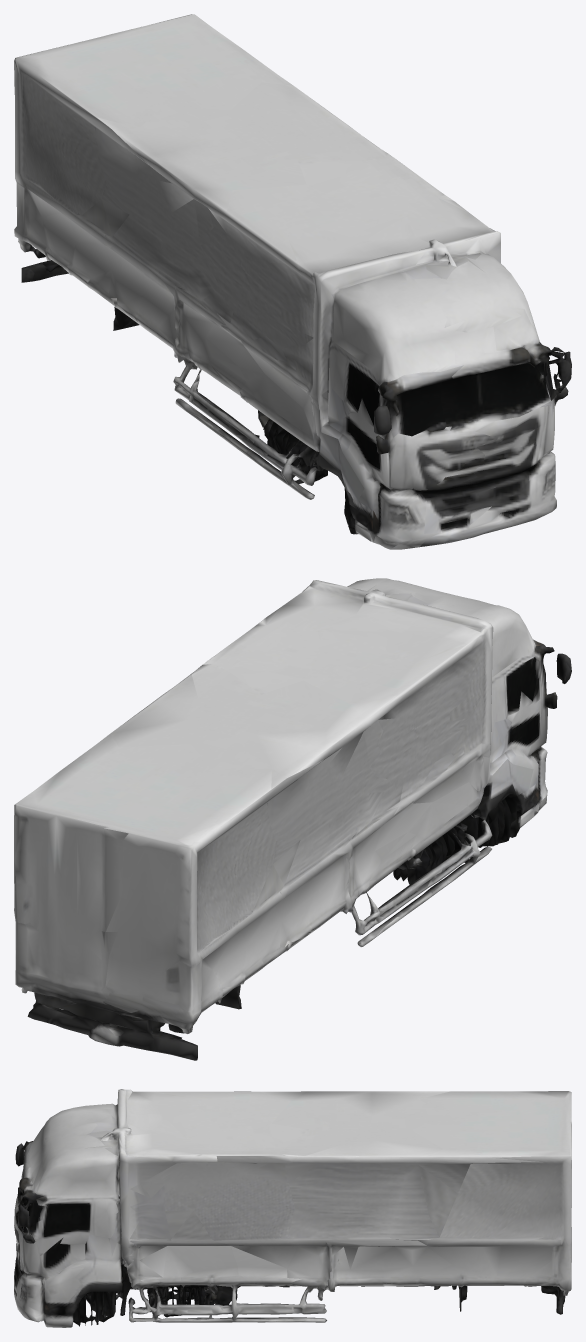
Rendered from misuzu_mega_17.obj.
3 renders of one model, top to bottom at view 1: azimuth 30°, elevation 25°; view 2: azimuth 150°, elevation 25°; view 3: azimuth 270°, elevation 25°, orthographic. The views are drawn at different scales.
Visible parts, largest first — view 1: body; view 2: body; view 3: body.
Part boxes in pixels (x1=…): body: x1=14, y1=14, x2=571, y2=549; body: x1=14, y1=578, x2=571, y2=1060; body: x1=14, y1=1089, x2=571, y2=1327.
Bounding box in the file's own units: 2.71 × 3.13 × 8.6.
